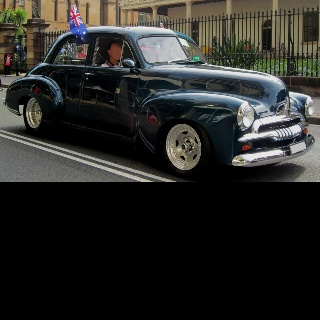without_mask: (110, 42, 122, 61), (7, 52, 11, 57), (7, 54, 10, 55), (213, 35, 214, 37)
